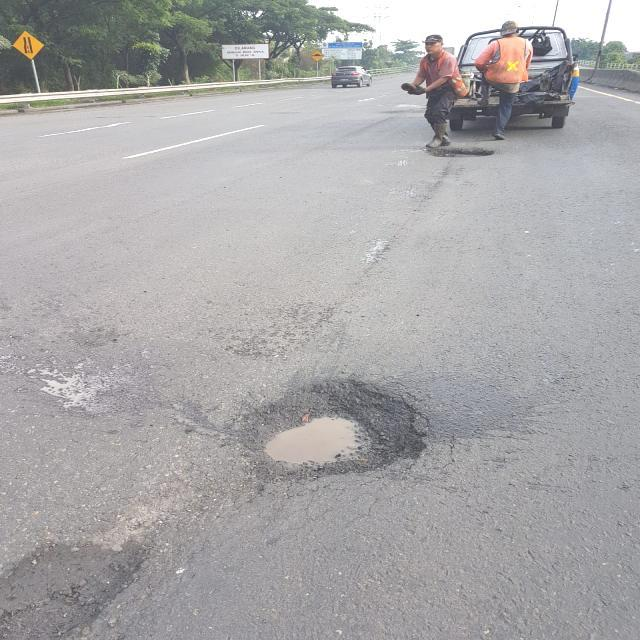Buraco: (235, 377, 431, 486), (418, 146, 497, 160)
